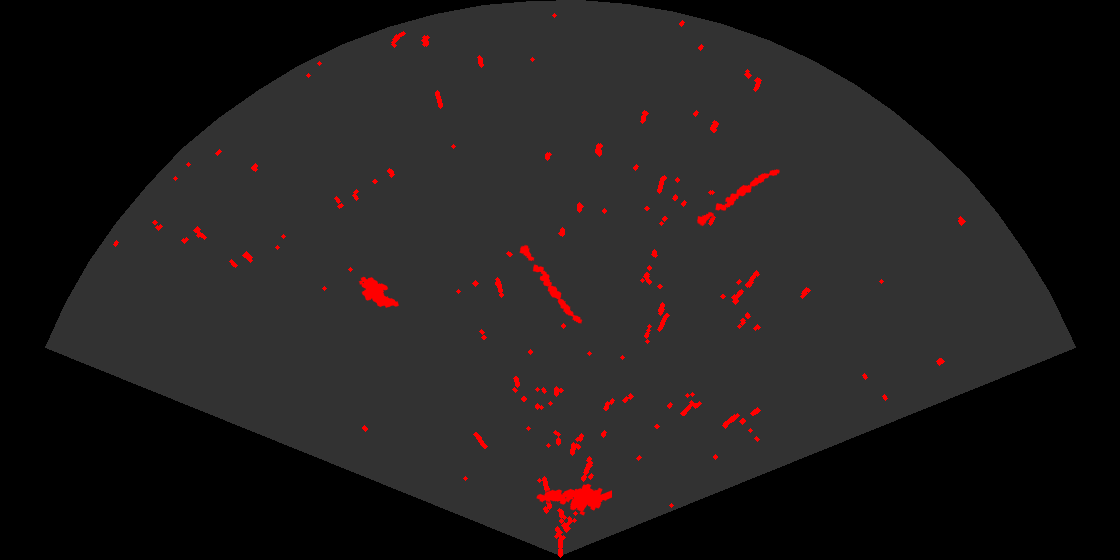AUV: (357, 275, 400, 309)
chain: (518, 243, 584, 325), (695, 168, 781, 228)
frogman: (535, 482, 612, 517)
